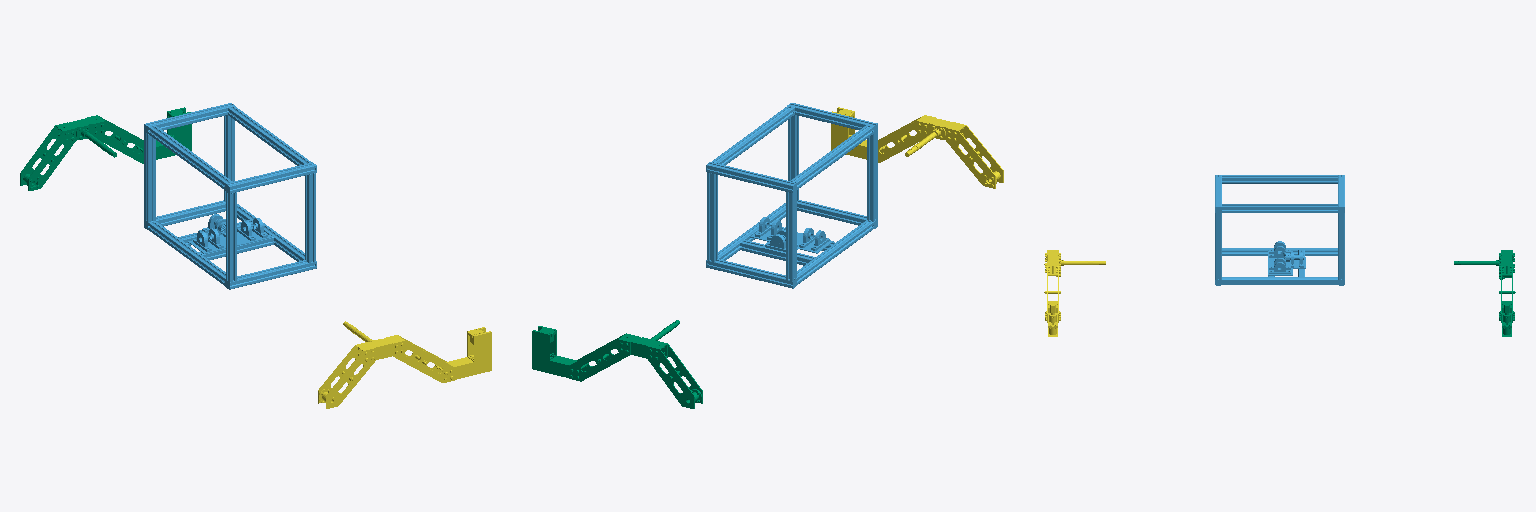
URDF robot description (fr01):
<?xml version="1.0" ?>
<!-- =================================================================================== -->
<!-- |    This document was autogenerated by xacro from fr01.urdf.xacro                | -->
<!-- |    EDITING THIS FILE BY HAND IS NOT RECOMMENDED                                 | -->
<!-- =================================================================================== -->
<robot name="fr01" xmlns:xacro="http://ros.org/wiki/xacro">
  <material name="black">
    <color rgba="0.0 0.0 0.0 1.0"/>
  </material>
  <material name="blue">
    <color rgba="0.0 0.0 0.8 1.0"/>
  </material>
  <material name="green">
    <color rgba="0.0 0.8 0.0 1.0"/>
  </material>
  <material name="grey">
    <color rgba="0.2 0.2 0.2 1.0"/>
  </material>
  <material name="orange">
    <color rgba="1.0 0.423529411765 0.0392156862745 1.0"/>
  </material>
  <material name="brown">
    <color rgba="0.870588235294 0.811764705882 0.764705882353 1.0"/>
  </material>
  <material name="red">
    <color rgba="0.8 0.0 0.0 1.0"/>
  </material>
  <material name="white">
    <color rgba="1.0 1.0 1.0 1.0"/>
  </material>
  <!-- Bogie Property -->
  <link name="base_footprint"/>
  <joint name="base_link_joint" type="fixed">
    <origin rpy="0 0 0" xyz="0 0 0"/>
    <parent link="base_footprint"/>
    <child link="base_link"/>
  </joint>
  <link name="base_link">
    <visual>
      <origin rpy="0 0 -1.57079637" xyz="0 0 0"/>
      <geometry>
        <mesh filename="package://fr01_description/meshes/visual/base_link.dae"/>
      </geometry>
    </visual>
    <collision>
      <origin rpy="0 0 -1.57079637" xyz="0 0 0"/>
      <geometry>
        <mesh filename="package://fr01_description/meshes/collision/base_link.stl"/>
      </geometry>
    </collision>
    <inertial>
      <mass value="6.441"/>
      <inertia ixx="0.004" ixy="0.000000000792" ixz="-0.000000001557" iyy="0.002" iyz="-0.0000000001274" izz="0.005"/>
    </inertial>
  </link>
  <joint name="rocker_right_joint" type="revolute">
    <origin rpy="0 0 0" xyz="0 1 0 "/>
    <parent link="base_link"/>
    <child link="rocker_right_link"/>
    <axis xyz="1 0 0"/>
    <dynamics dampint="0.7" friction="0.7"/>
    <limit effort="30.0" lower="-1.57079637" upper="1.57079637" velocity="2*M_PI"/>
  </joint>
  <link name="rocker_right_link">
    <visual>
      <origin rpy="0 0 0" xyz="0 0 0"/>
      <geometry>
        <mesh filename="package://fr01_description/meshes/visual/rocker_right_link.dae"/>
      </geometry>
    </visual>
    <collision>
      <origin rpy="0 0 0" xyz="0 0 0"/>
      <geometry>
        <mesh filename="package://fr01_description/meshes/collision/rocker_right_link.stl"/>
      </geometry>
    </collision>
    <inertial>
      <mass value="2.088"/>
      <inertia ixx="0.0002582" ixy="-0.0000001417" ixz="-0.00004954" iyy="0.0004952" iyz="0.00000007736" izz="0.0003856"/>
    </inertial>
  </link>
  <joint name="rocker_left_joint" type="revolute">
    <origin rpy="0 0 0" xyz="0 -1 0 "/>
    <parent link="base_link"/>
    <child link="rocker_left_link"/>
    <axis xyz="1 0 0"/>
    <dynamics dampint="0.7" friction="0.7"/>
    <limit effort="30.0" lower="-1.57079637" upper="1.57079637" velocity="2*M_PI"/>
  </joint>
  <link name="rocker_left_link">
    <visual>
      <origin rpy="0 0 0" xyz="0 0 0"/>
      <geometry>
        <mesh filename="package://fr01_description/meshes/visual/rocker_left_link.dae"/>
      </geometry>
    </visual>
    <collision>
      <origin rpy="0 0 0" xyz="0 0 0"/>
      <geometry>
        <mesh filename="package://fr01_description/meshes/collision/rocker_left_link.stl"/>
      </geometry>
    </collision>
    <inertial>
      <mass value="2.088"/>
      <inertia ixx="0.0002507" ixy="0.0000001419" ixz="-0.00004954" iyy="0.0004952" iyz="-0.0004669" izz="0.0003932"/>
    </inertial>
  </link>
</robot>

--- What the picture shows (computed from the rendered views, not written in the file) ---
3 views of the same robot in one strip: view 1: azimuth 30°, elevation 25°; view 2: azimuth 150°, elevation 25°; view 3: azimuth 270°, elevation 25° (orthographic).
Model fr01 with 4 links and 3 joints (2 revolute, 1 fixed), rooted at base_footprint, posed every joint at zero.
Visible links, largest first — view 1: base_link, rocker_left_link, rocker_right_link; view 2: base_link, rocker_right_link, rocker_left_link; view 3: base_link, rocker_right_link, rocker_left_link.
Link boxes in pixels (x1,y1,x2,y2): base_link: (144, 103, 316, 289); rocker_left_link: (318, 321, 491, 408); rocker_right_link: (20, 107, 191, 190); base_link: (706, 103, 877, 288); rocker_right_link: (532, 320, 702, 408); rocker_left_link: (831, 107, 1003, 188); base_link: (1215, 175, 1344, 285); rocker_right_link: (1454, 250, 1515, 336); rocker_left_link: (1044, 250, 1105, 336).
Bounding box of the posed robot: 0.671 × 2.18 × 0.543 m (x, y, z).
Meshes: 3 distinct files referenced, 3 mesh visuals loaded (3 Collada DAE).